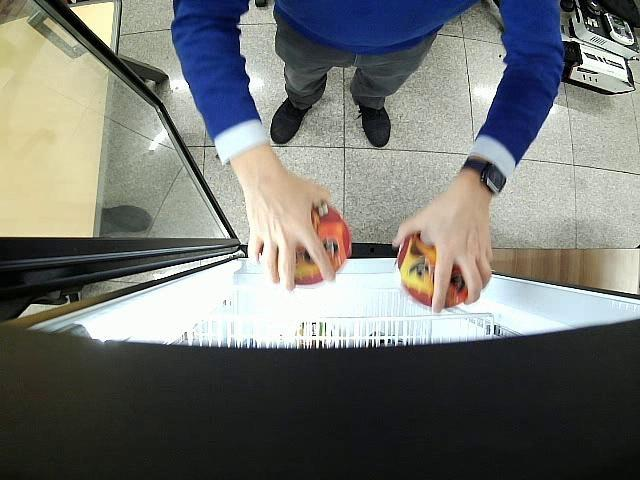05_nuguri_L: (260, 200, 352, 284), (396, 230, 468, 310)
